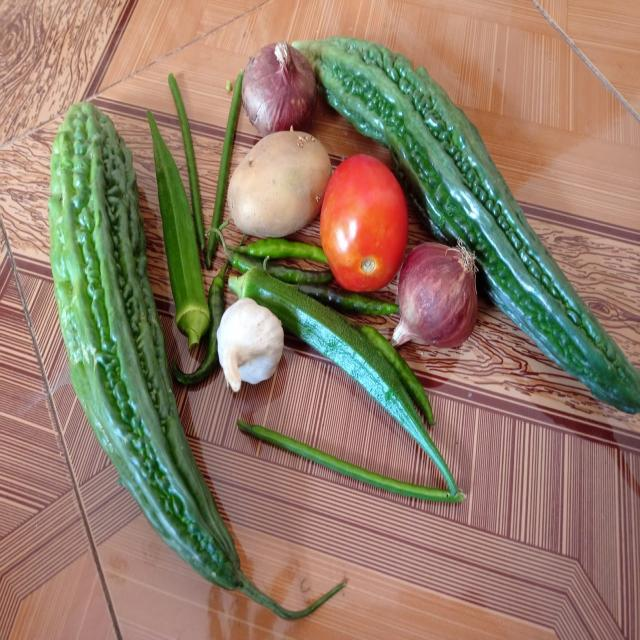Organik: (53, 104, 158, 494), (234, 420, 408, 501), (321, 152, 406, 288), (226, 128, 330, 239), (154, 146, 204, 339), (396, 245, 476, 352), (218, 298, 286, 396), (244, 45, 316, 134), (208, 76, 240, 253), (228, 235, 327, 281)
